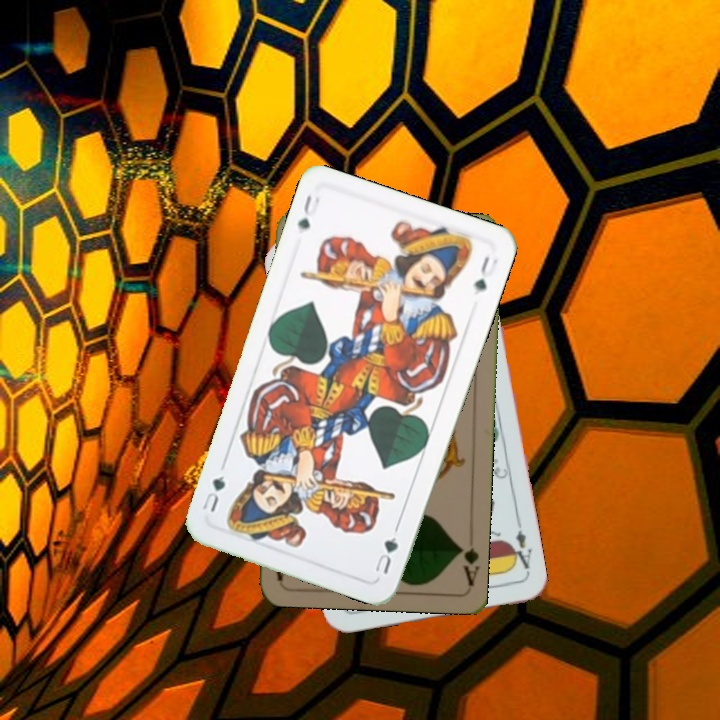EA: (506, 518, 535, 577)
GA: (453, 540, 480, 588)
GU: (370, 523, 401, 577), (293, 190, 322, 232)
